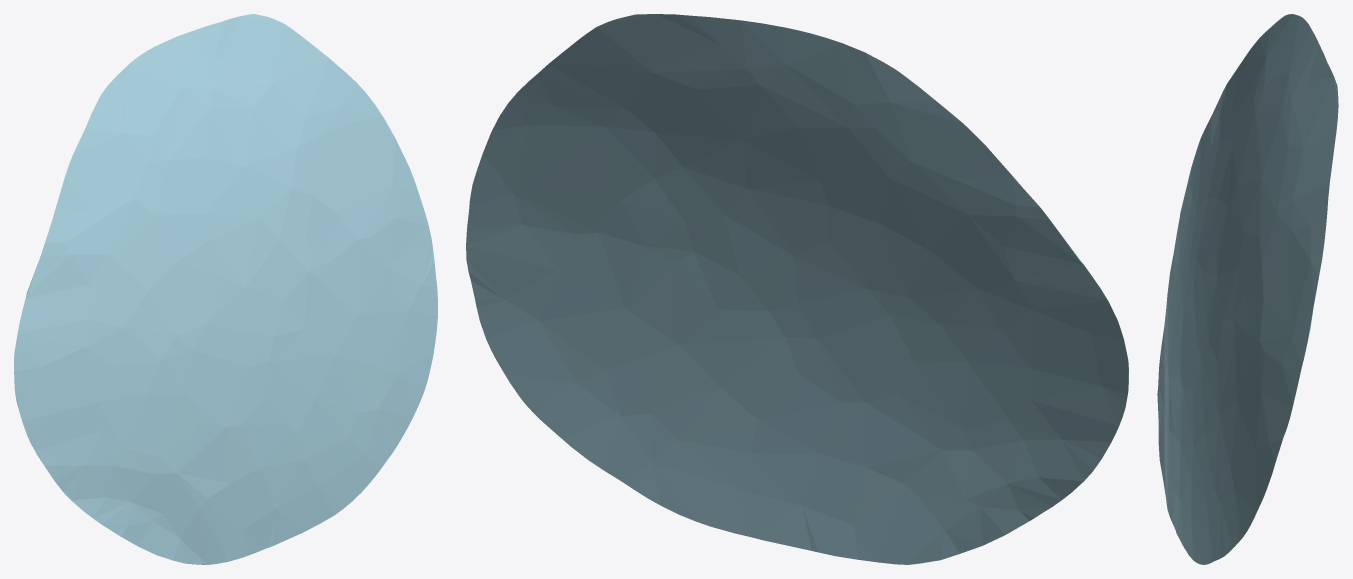
Rendered from tumorProjUpdate.obj.
3 renders of one model, left to right at view 1: azimuth 30°, elevation 25°; view 2: azimuth 150°, elevation 25°; view 3: azimuth 270°, elevation 25°, orthographic. The views are drawn at different scales.
Parts seen in each view (by area): view 1: grp1; view 2: grp1; view 3: grp1.
Part boxes in pixels (x1,y1,x2,y2): grp1: (14, 14, 437, 564); grp1: (466, 14, 1128, 564); grp1: (1157, 14, 1338, 564).
Bounding box in the file's own units: 0.0361 × 0.0347 × 0.0117.
